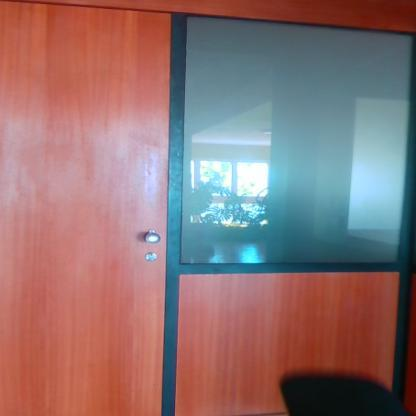door: (0, 0, 164, 415)
knob: (145, 230, 161, 246)
